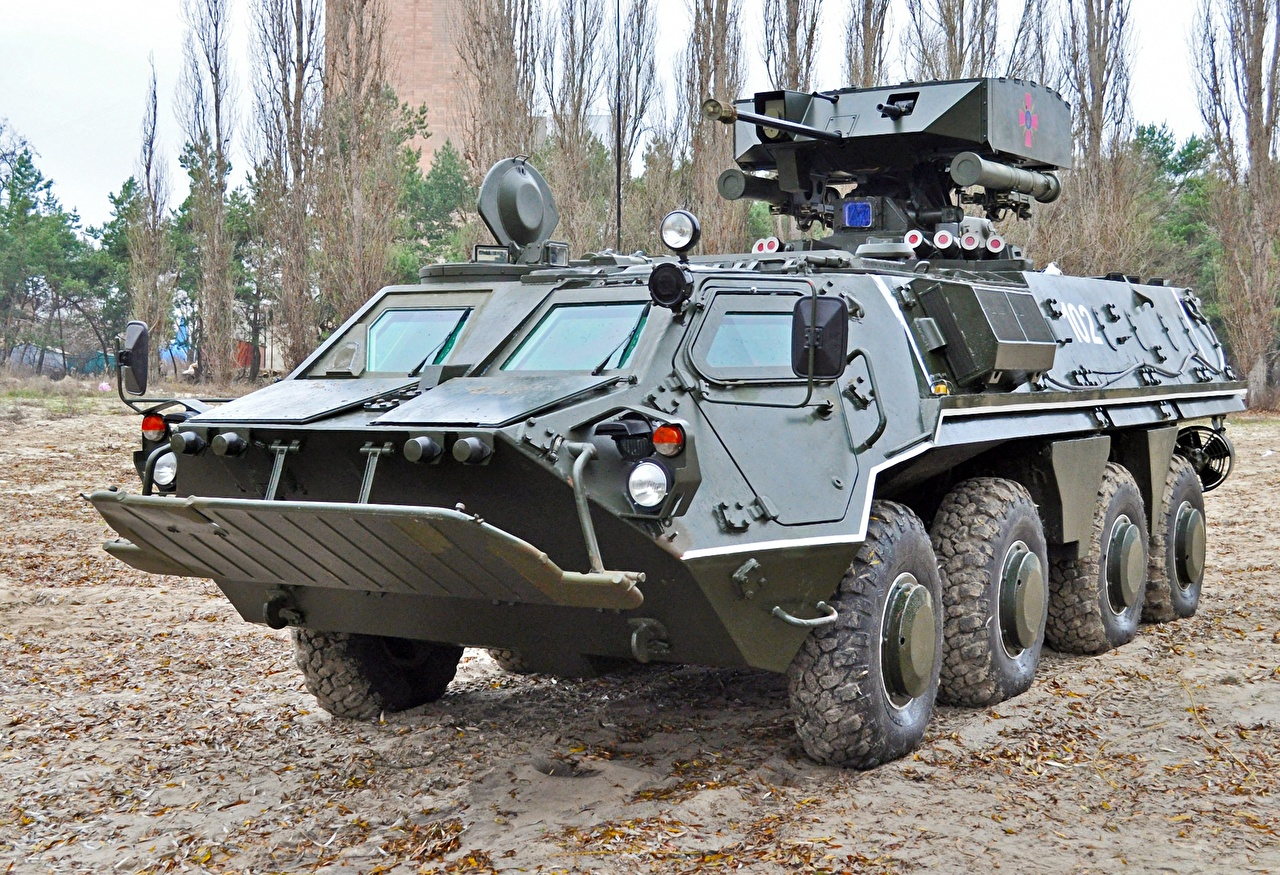btr: (161, 81, 1225, 755)
